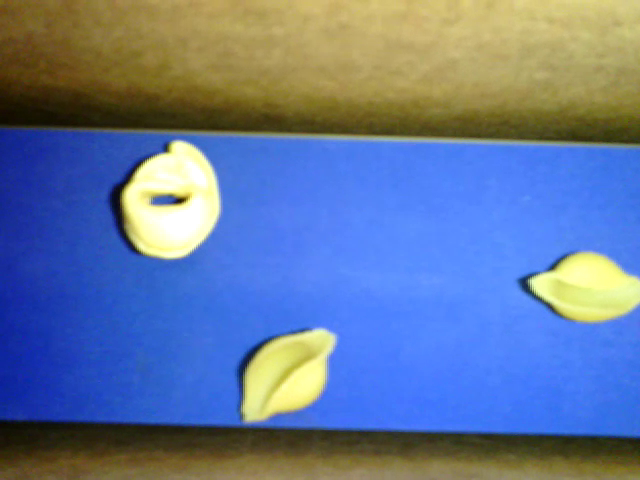shell: (238, 328, 336, 424), (528, 251, 639, 324)
tortellini: (123, 139, 221, 262)
